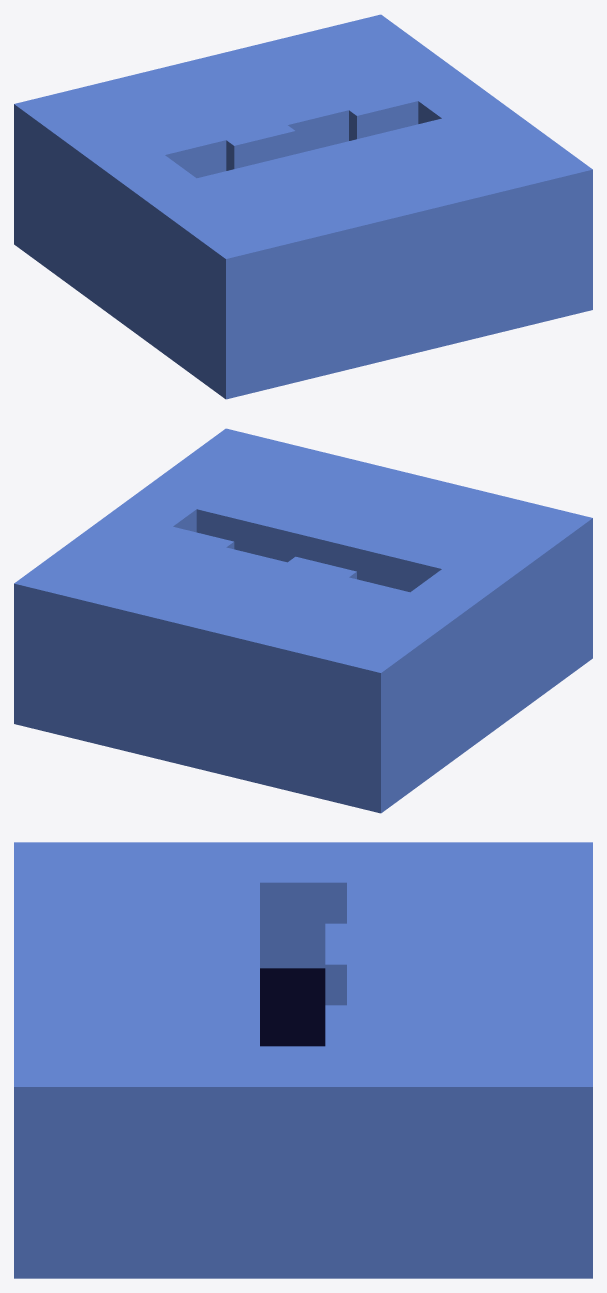
Rendered from cerrojo.fbx.
The picture shows the model from 3 angles, top to bottom: view 1: azimuth 30°, elevation 25°; view 2: azimuth 150°, elevation 25°; view 3: azimuth 270°, elevation 25°; orthographic projection. The views are drawn at different scales.
Visible parts, largest first — view 1: Cube; view 2: Cube; view 3: Cube.
Part boxes in pixels (left/top/right/bottom): Cube: left=14, top=14, right=592, bottom=399; Cube: left=14, top=428, right=592, bottom=813; Cube: left=14, top=842, right=592, bottom=1278.
Size of the model in its own units: 200 by 73.11 by 200.
